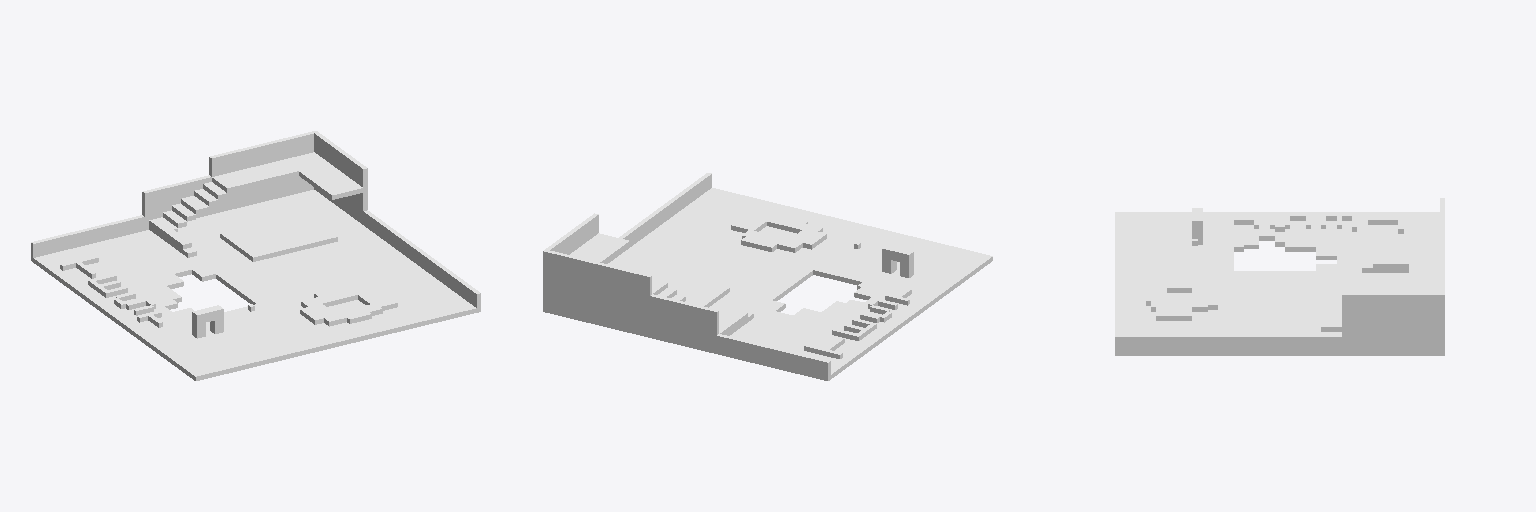
File: test_world.obj
3 views of the same model, side by side, from view 1: azimuth 30°, elevation 25°; view 2: azimuth 150°, elevation 25°; view 3: azimuth 270°, elevation 25° (orthographic).
Parts seen in each view (by area): view 1: object 1; view 2: object 1; view 3: object 1.
Part boxes in pixels (x1,y1,x2,y2): object 1: (31,131,480,380); object 1: (543,173,992,380); object 1: (1115,198,1444,355).
Bounding box in the file's own units: 25.6 × 5.2 × 25.6.